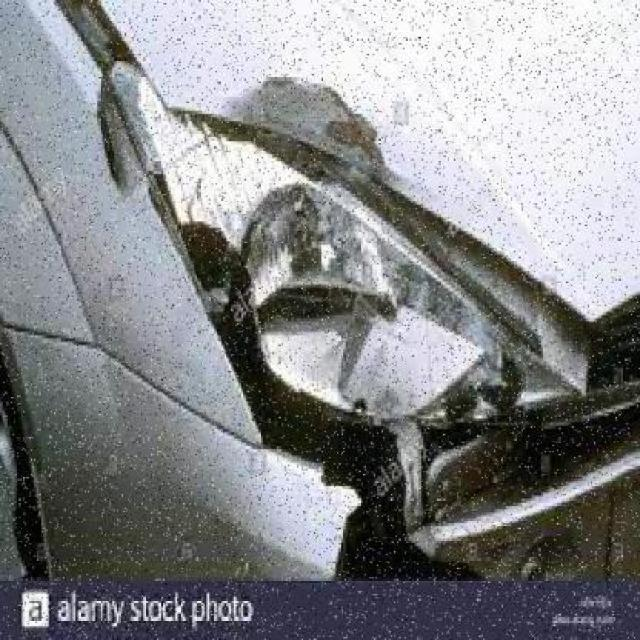Headlight-Damage: (136, 94, 523, 436)
front-bumper-dent: (3, 399, 639, 590)
